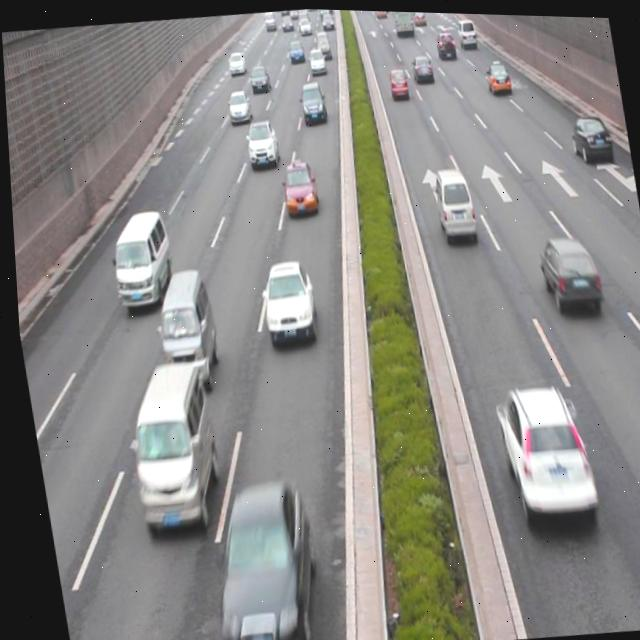car: (194, 477, 317, 640), (486, 378, 595, 531), (532, 228, 600, 311), (254, 255, 314, 342), (278, 157, 315, 215), (567, 112, 609, 160), (241, 116, 277, 166)
truck: (114, 354, 219, 536), (146, 265, 220, 394), (104, 207, 175, 312), (428, 166, 476, 244)
